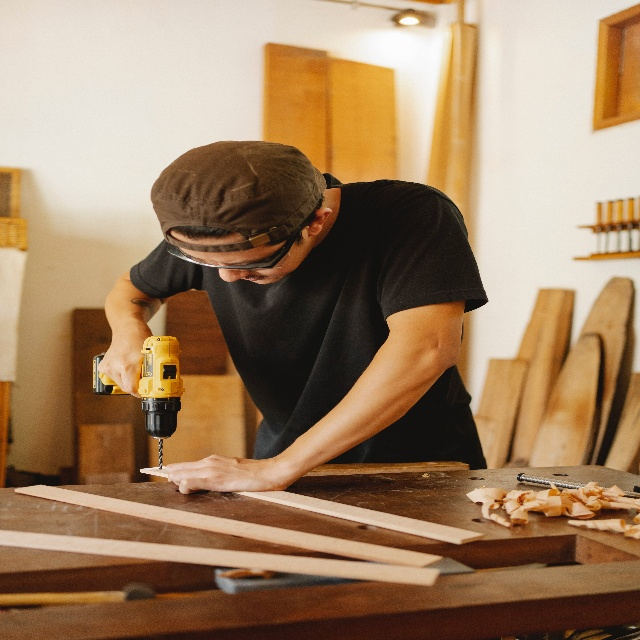Gafas: (167, 227, 301, 272)
Sin_guantes: (165, 453, 288, 495), (98, 314, 154, 400)
